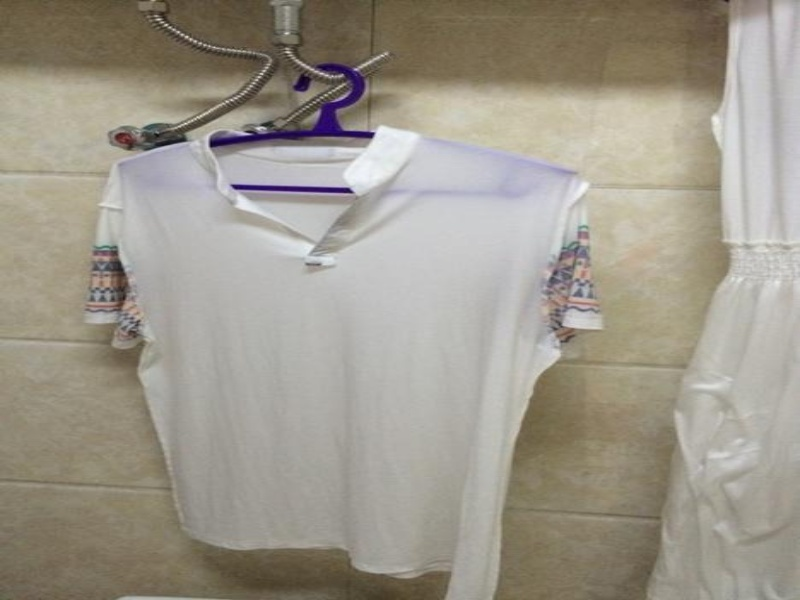short_sleeved_shirt: (72, 120, 609, 599)
